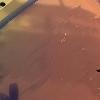black: (93, 65, 100, 75), (0, 1, 8, 9)
